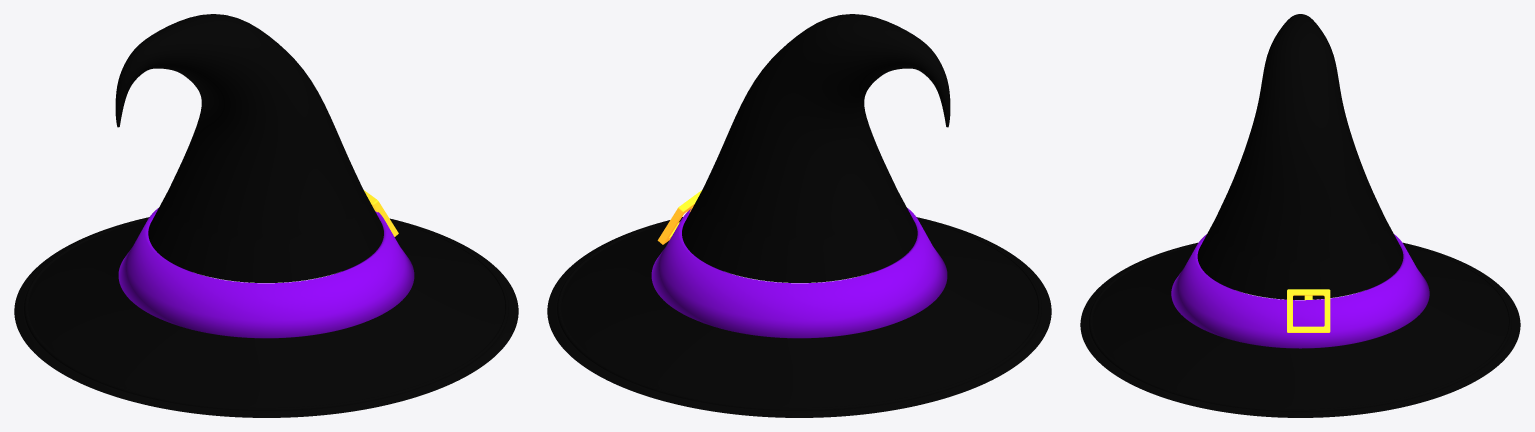
Rendered from WitchHat.fbx.
3 views of the same model, side by side, from view 1: azimuth 30°, elevation 25°; view 2: azimuth 150°, elevation 25°; view 3: azimuth 270°, elevation 25° (orthographic). The views are drawn at different scales.
Visible parts, largest first — view 1: Circle, Circle.001; view 2: Circle, Circle.001, Cube.003; view 3: Circle, Circle.001, Cube.003.
Part boxes in pixels (x1,y1,x2,y2): Circle: [14, 14, 518, 417]; Circle.001: [118, 208, 414, 338]; Circle: [547, 14, 1051, 417]; Circle.001: [651, 208, 947, 338]; Cube.003: [657, 190, 701, 244]; Circle: [1080, 14, 1520, 417]; Circle.001: [1171, 234, 1429, 348]; Cube.003: [1287, 289, 1330, 332].
Size of the model in its own units: 1129 by 760 by 1129.
